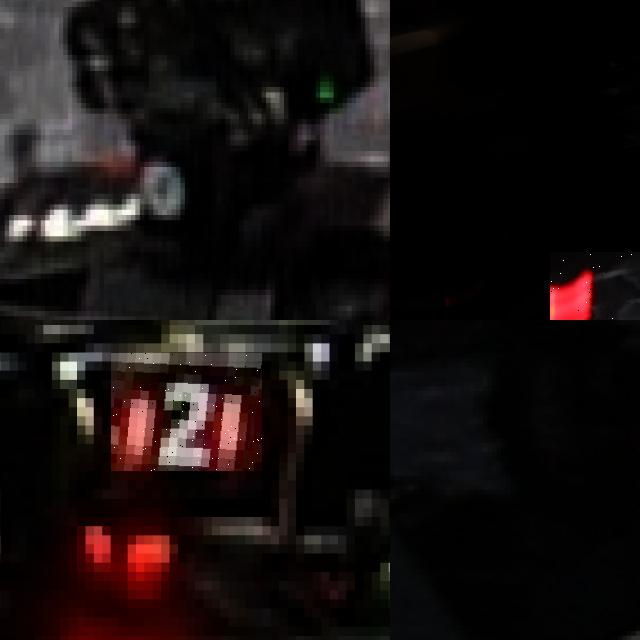R2: (111, 353, 262, 471)
Rs: (550, 252, 640, 320)
